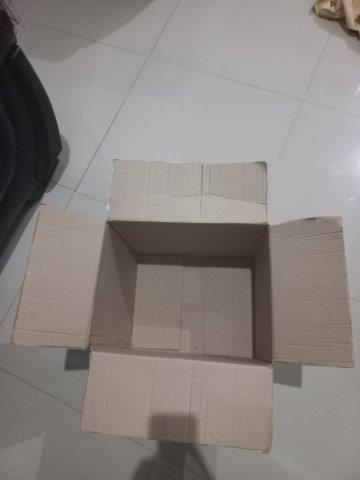kardus: (10, 161, 353, 454)
